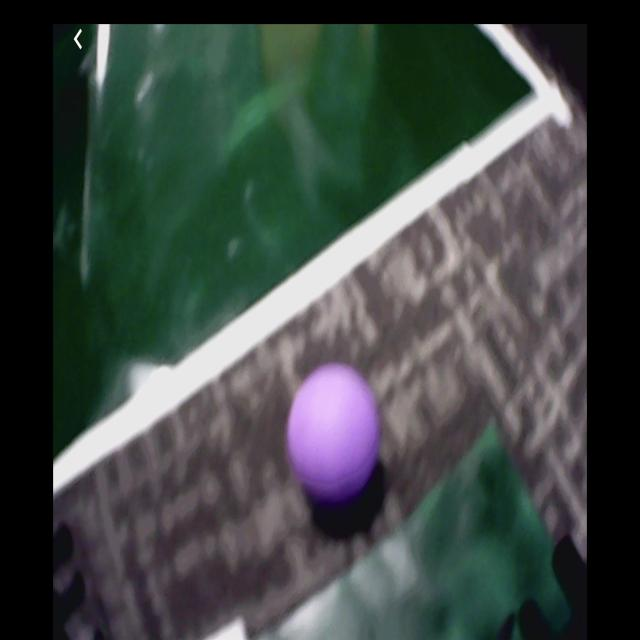ball: (288, 365, 380, 501)
